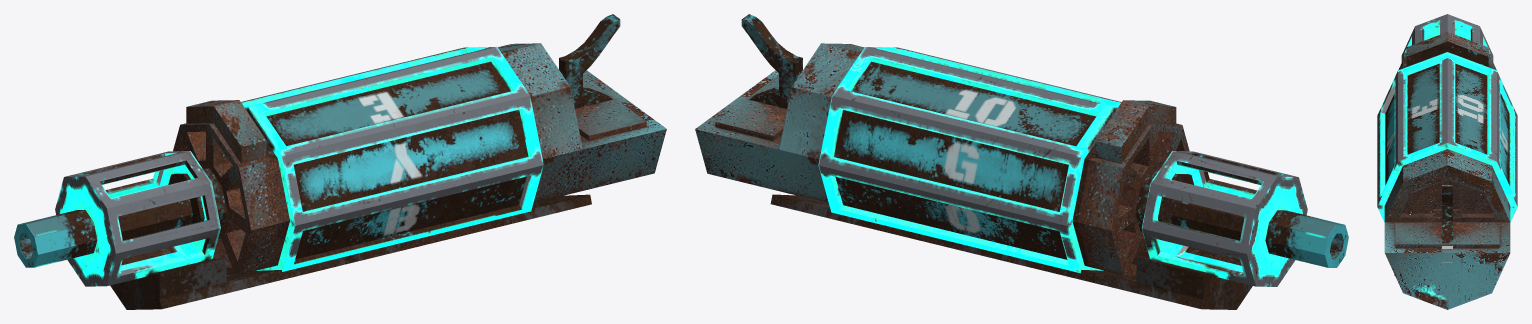
The model's file is Rev3.fbx.
3 renders of one model, left to right at view 1: azimuth 30°, elevation 25°; view 2: azimuth 150°, elevation 25°; view 3: azimuth 270°, elevation 25°, orthographic. The views are drawn at different scales.
Parts seen in each view (by area): view 1: Cylinder.135, Cylinder.133, Cylinder.136, Cylinder.137; view 2: Cylinder.135, Cylinder.133, Cylinder.136, Cylinder.137; view 3: Cylinder.133, Cylinder.135, Cylinder.136, Cylinder.137.
Boxes of the visible parts, <box> form: Cylinder.135: <box>241,47,543,271</box>; Cylinder.133: <box>110,43,666,309</box>; Cylinder.136: <box>14,151,220,286</box>; Cylinder.137: <box>559,14,620,108</box>; Cylinder.135: <box>818,47,1121,273</box>; Cylinder.133: <box>695,43,1252,309</box>; Cylinder.136: <box>1141,151,1348,286</box>; Cylinder.137: <box>741,14,802,108</box>; Cylinder.133: <box>1384,32,1510,309</box>; Cylinder.135: <box>1377,52,1517,222</box>; Cylinder.136: <box>1401,14,1493,62</box>; Cylinder.137: <box>1442,185,1452,262</box>.
Bounding box in the file's own units: 198 × 57.55 × 53.29.
